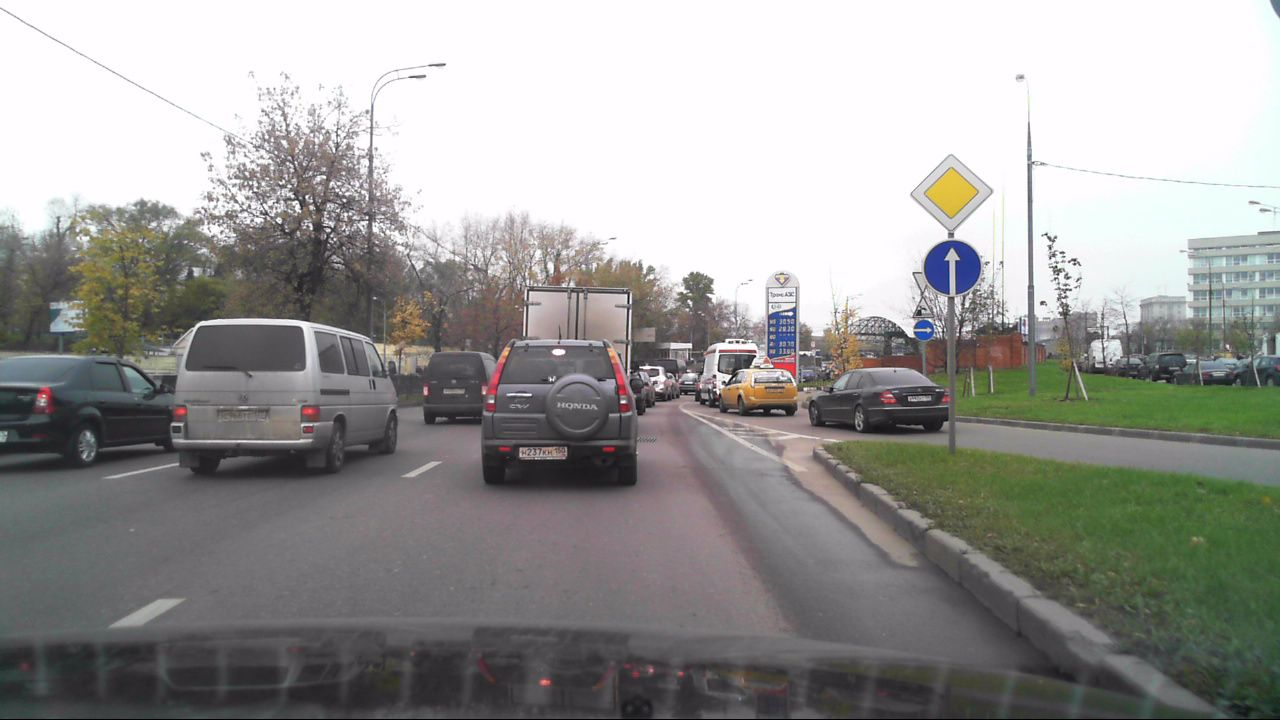Turn Right: (913, 320, 934, 341)
